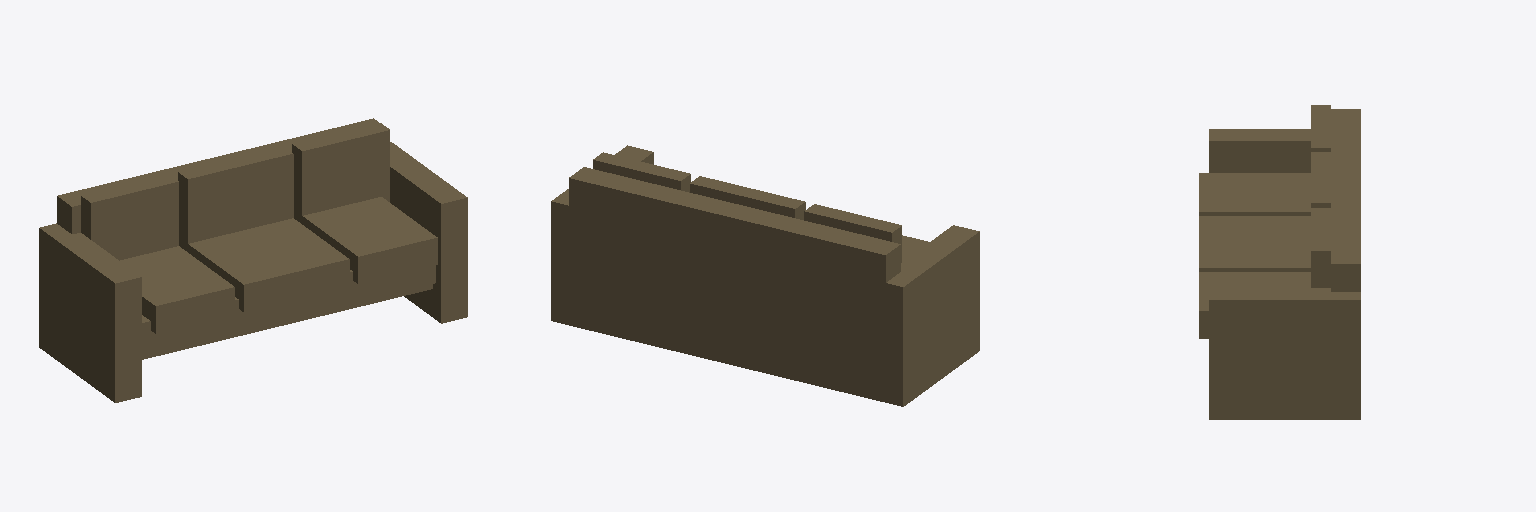
3 renders of one model, left to right at view 1: azimuth 30°, elevation 25°; view 2: azimuth 150°, elevation 25°; view 3: azimuth 270°, elevation 25°, orthographic.
Parts seen in each view (by area): view 1: object 1; view 2: object 1; view 3: object 1.
Boxes of the visible parts, box(x1,y1,x2,y2) form: object 1: box(39, 118, 467, 402); object 1: box(551, 145, 979, 406); object 1: box(1199, 105, 1360, 419).
Size of the model in its own units: 4 by 1.7 by 1.6.
1 materials, 1 textured.